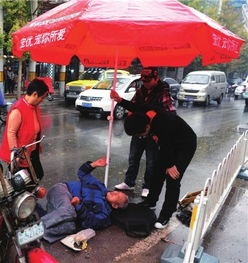falling: (37, 155, 134, 249)
